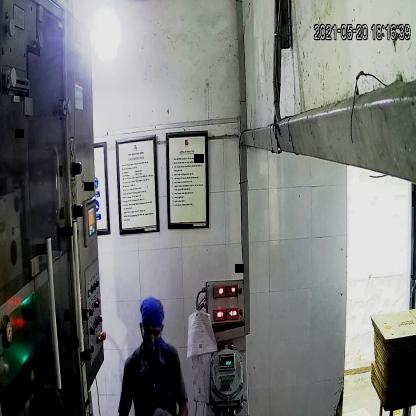goggles: (140, 323, 164, 341)
